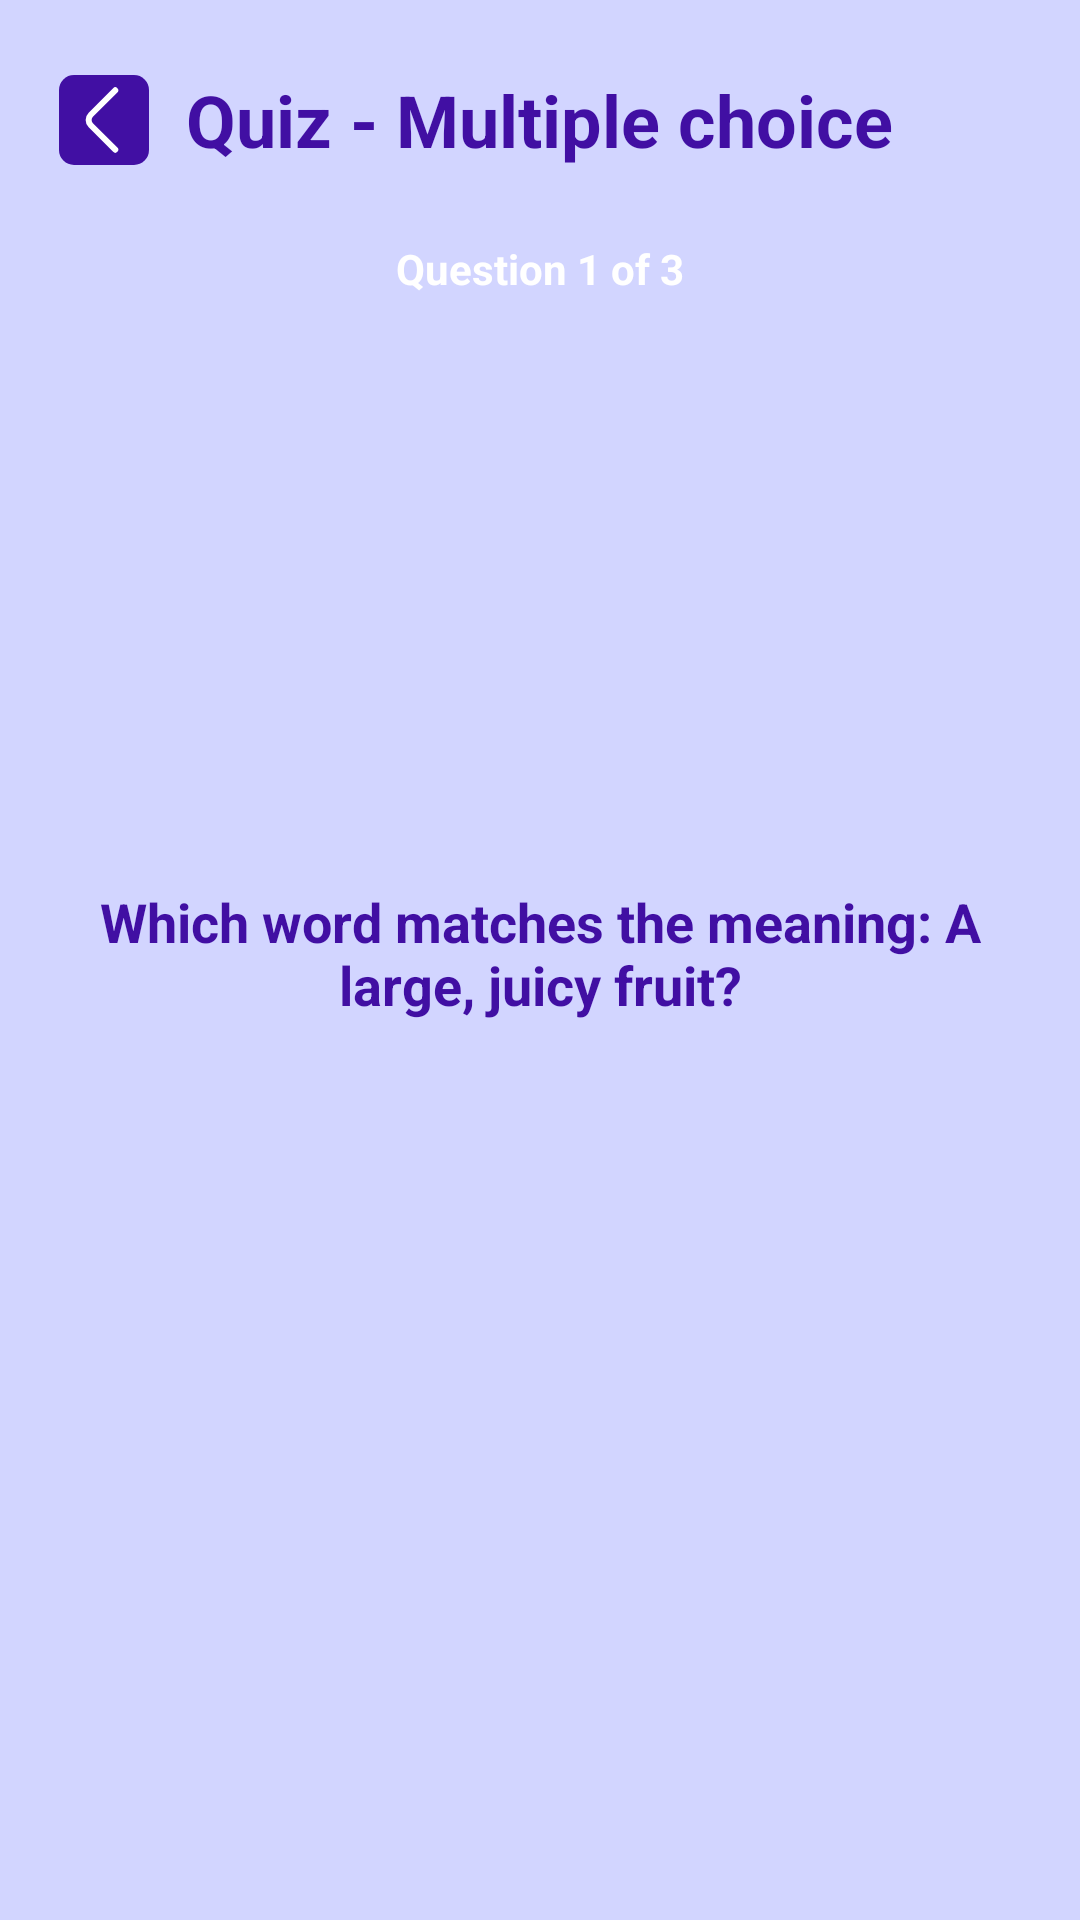

Screen size 1080×1920. Icon name, then its center in pixels as (x,y):
Back: (104,120)
